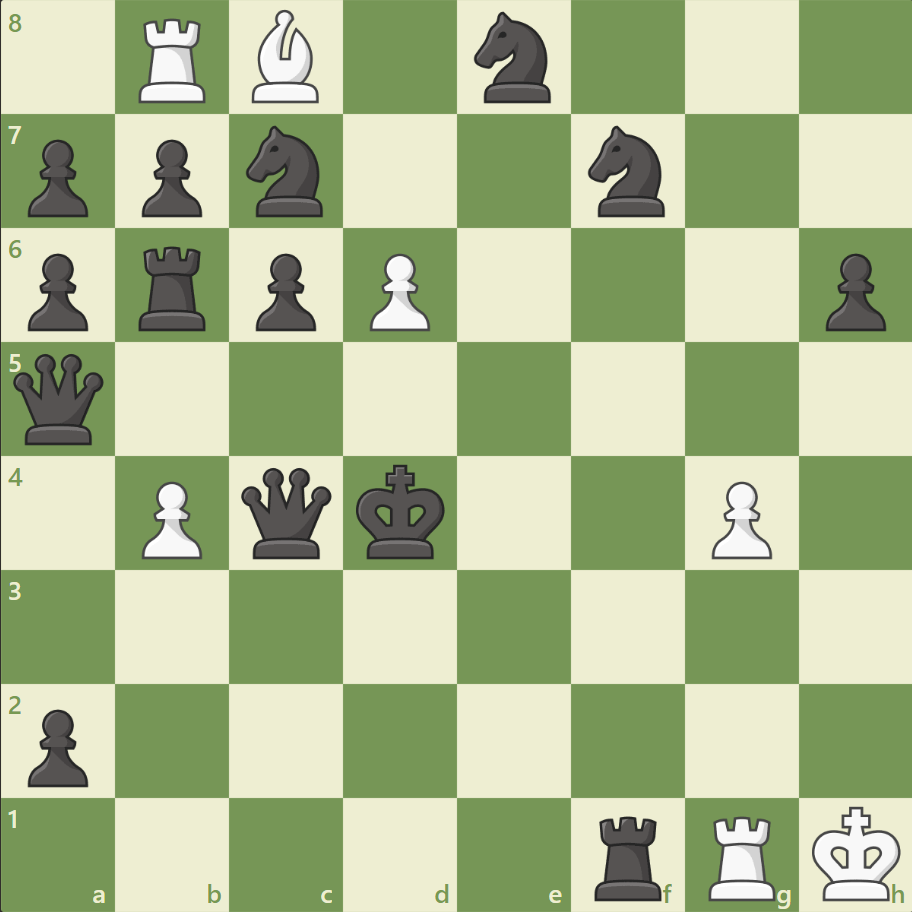B: (244, 6, 328, 109)
K: (806, 798, 906, 906)
P: (133, 473, 208, 564), (701, 473, 776, 564), (361, 246, 435, 337)
R: (700, 806, 783, 904), (133, 12, 215, 109)
k: (351, 458, 451, 566)
n: (465, 7, 562, 110), (238, 121, 335, 223), (579, 121, 676, 223)
p: (20, 132, 95, 223), (133, 132, 208, 223), (20, 246, 95, 337), (247, 246, 322, 337), (20, 700, 95, 791), (815, 246, 889, 337)
q: (10, 349, 109, 449), (237, 463, 336, 562)
r: (587, 806, 670, 904), (133, 239, 215, 336)
